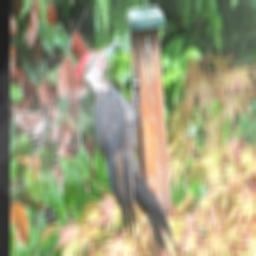Woodpecker: (73, 38, 175, 254)
